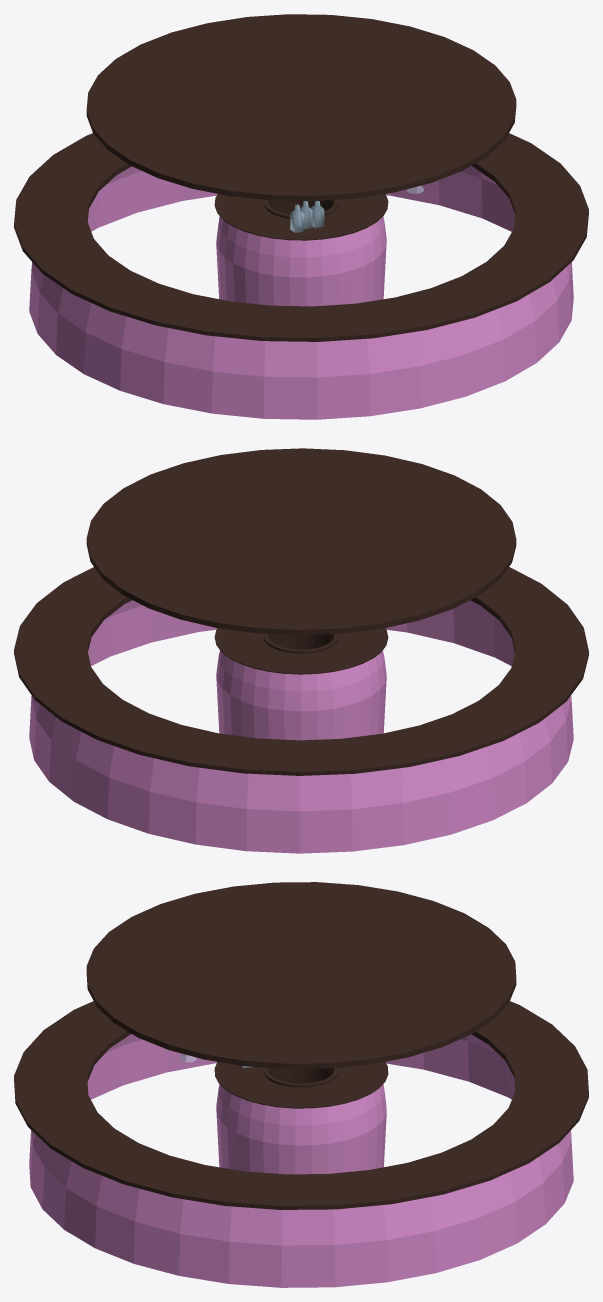
The model's file is bar.glb.
3 renders of one model, top to bottom at view 1: azimuth 30°, elevation 25°; view 2: azimuth 150°, elevation 25°; view 3: azimuth 270°, elevation 25°, orthographic.
Parts seen in each view (by area): view 1: Bar; view 2: Bar; view 3: Bar.
Boxes of the visible parts, <box> form: Bar: <box>14,14,588,419</box>; Bar: <box>14,448,588,853</box>; Bar: <box>14,882,588,1287</box>.
Size of what is drawn, in the model's own units: 7.01 by 2.69 by 7.01.
